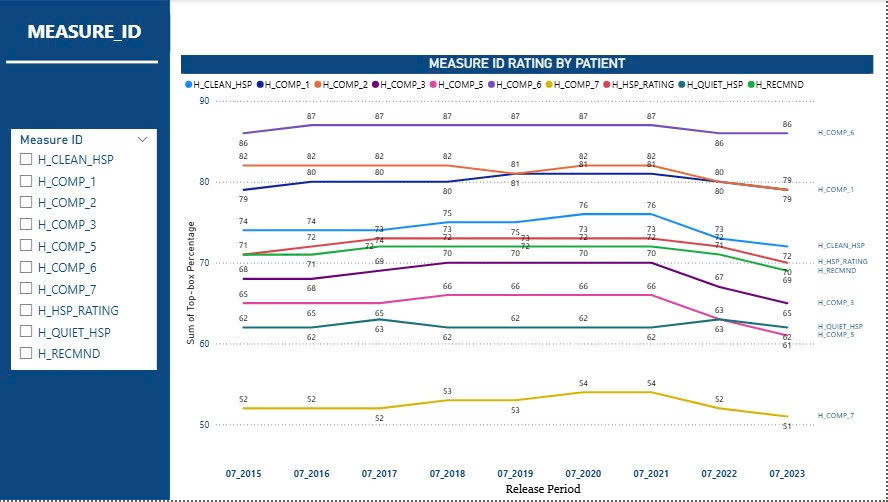

The page's visual inventory and layout, read from the dashboard file:
{"tool":"powerbi","page":{"name":"National","canvas":[1280,720],"ordinal":1},"visuals":[{"type":"shape","box":[0,0,247.7,720.3],"z":0},{"type":"slicer","fields":{"Values":["national_results.Measure ID"]},"box":[18.7,185.8,210.2,347],"z":1000},{"type":"lineChart","title":"MEASURE ID RATING BY PATIENT","fields":{"Y":["Sum(national_results.Top-box Percentage)"],"Category":["national_results.Release Period"],"Series":["national_results.Measure ID"]},"box":[263,79.5,997.1,640.8],"z":2000},{"type":"textbox","box":[0,19.9,247.7,55.1],"z":3000},{"type":"shape","box":[11.5,56.2,218.9,66.2],"z":4000}]}

Visuals, with their boxes in screenshot pixels (x1, y1, x2, y2), scaled from the page's 1280x720 canvas onto the 888x502 screenshot:
shape: select_region(0, 0, 172, 501)
slicer - national_results.Measure ID: select_region(13, 130, 159, 371)
"MEASURE ID RATING BY PATIENT" lineChart: select_region(182, 55, 874, 501)
textbox: select_region(0, 14, 172, 52)
shape: select_region(8, 39, 160, 85)
